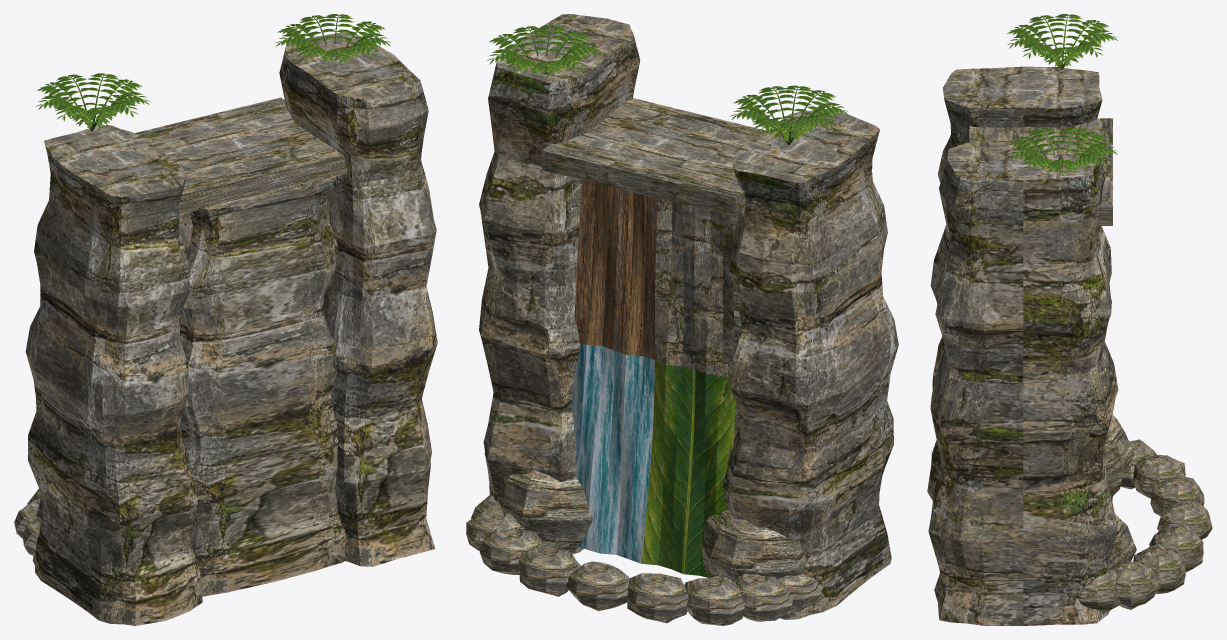
The model's file is WaterfallCliff.fbx.
The picture shows the model from 3 angles, left to right: view 1: azimuth 30°, elevation 25°; view 2: azimuth 150°, elevation 25°; view 3: azimuth 270°, elevation 25°; orthographic projection. The views are drawn at different scales.
Visible parts, largest first — view 1: WaterfallCliff_LOD0; view 2: WaterfallCliff_LOD0, WaterFlow; view 3: WaterfallCliff_LOD0.
Boxes of the visible parts, x1,y1,x2,y2 form: WaterfallCliff_LOD0: (14, 14, 437, 625); WaterfallCliff_LOD0: (466, 14, 898, 625); WaterFlow: (571, 180, 735, 577); WaterfallCliff_LOD0: (927, 14, 1212, 625).
Size of what is drawn, in the model's own units: 7.57 by 9.98 by 5.57.
